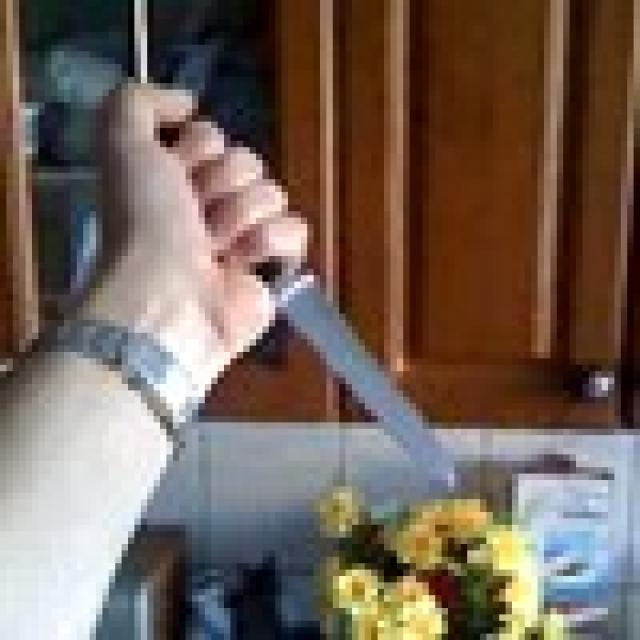weapon: (160, 116, 454, 487)
